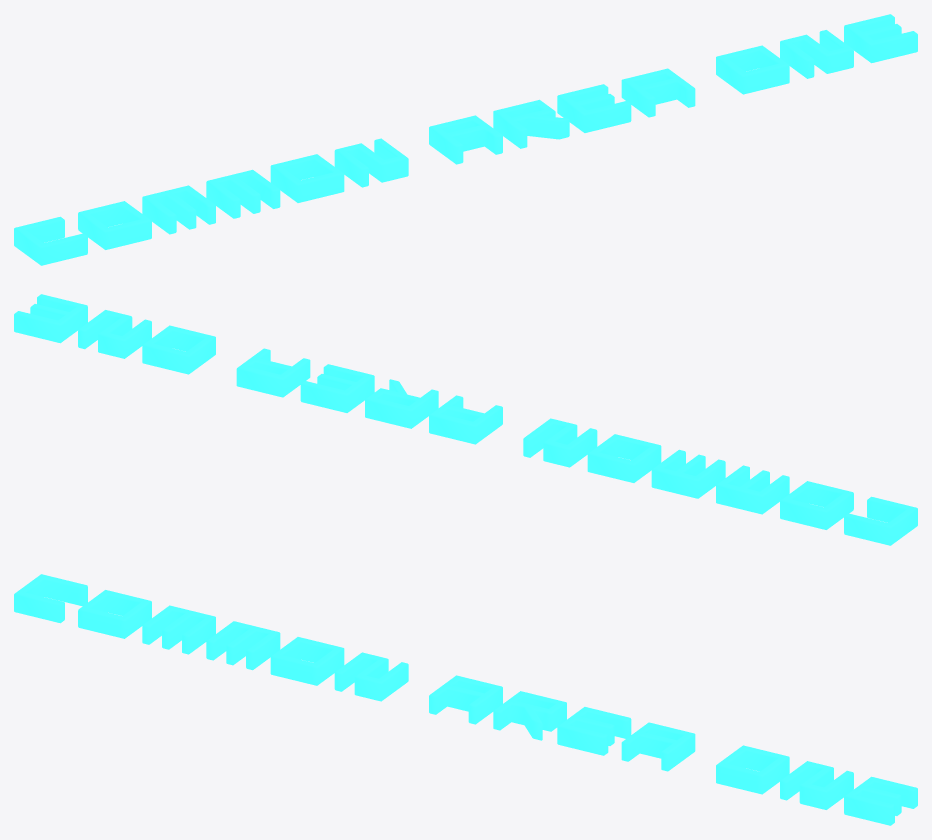
File: FACILITY_COMMON1Label.fbx
The picture shows the model from 3 angles, top to bottom: view 1: azimuth 30°, elevation 25°; view 2: azimuth 150°, elevation 25°; view 3: azimuth 330°, elevation 25°; orthographic projection.
Parts seen in each view (by area): view 1: LAB-LABEL.005; view 2: LAB-LABEL.005; view 3: LAB-LABEL.005.
Boxes of the visible parts, x1,y1,x2,y2 form: LAB-LABEL.005: (14,14,917,265); LAB-LABEL.005: (14,294,917,545); LAB-LABEL.005: (14,574,917,825).
Size of the model in its own units: 1493 by 32 by 79.68.
